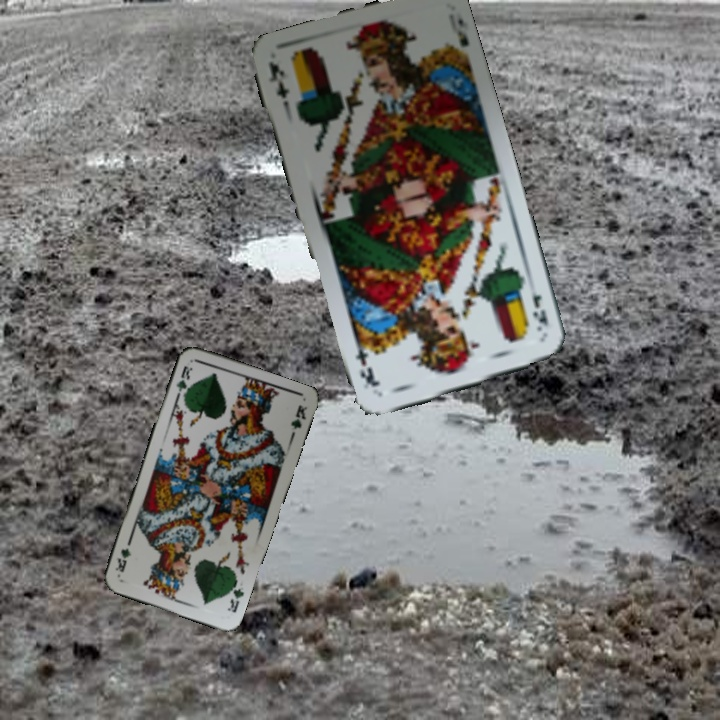EK: (264, 58, 293, 115), (528, 290, 551, 334)
GK: (172, 361, 195, 401), (223, 575, 246, 615)
